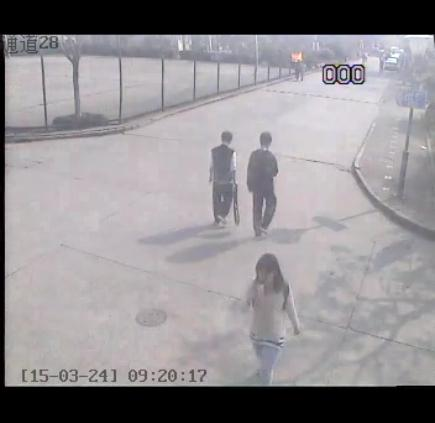person: (244, 251, 304, 386), (243, 128, 283, 242), (205, 129, 244, 231)
